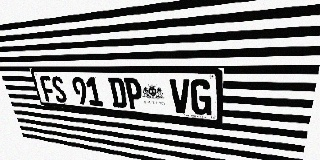1: (84, 77, 103, 106)
9: (71, 77, 90, 105)
D: (108, 77, 128, 108)
F: (39, 76, 57, 102)
G: (190, 79, 212, 116)
P: (123, 78, 144, 110)
S: (50, 76, 68, 103)
V: (169, 79, 191, 114)
